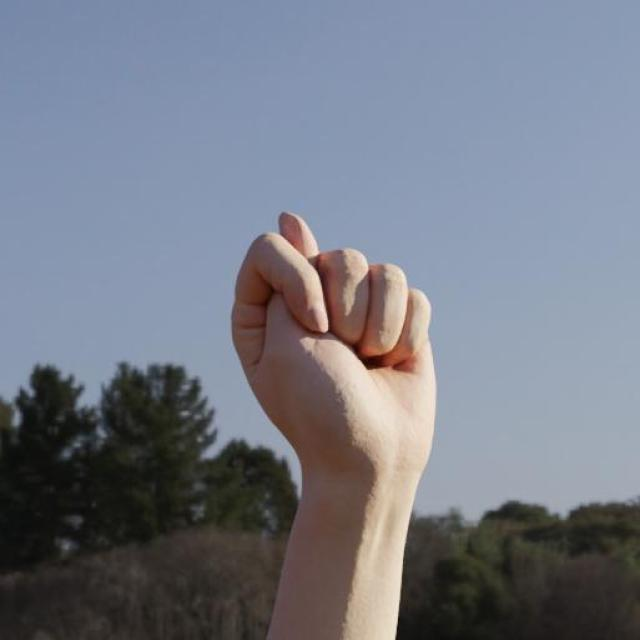T: (226, 207, 443, 478)
